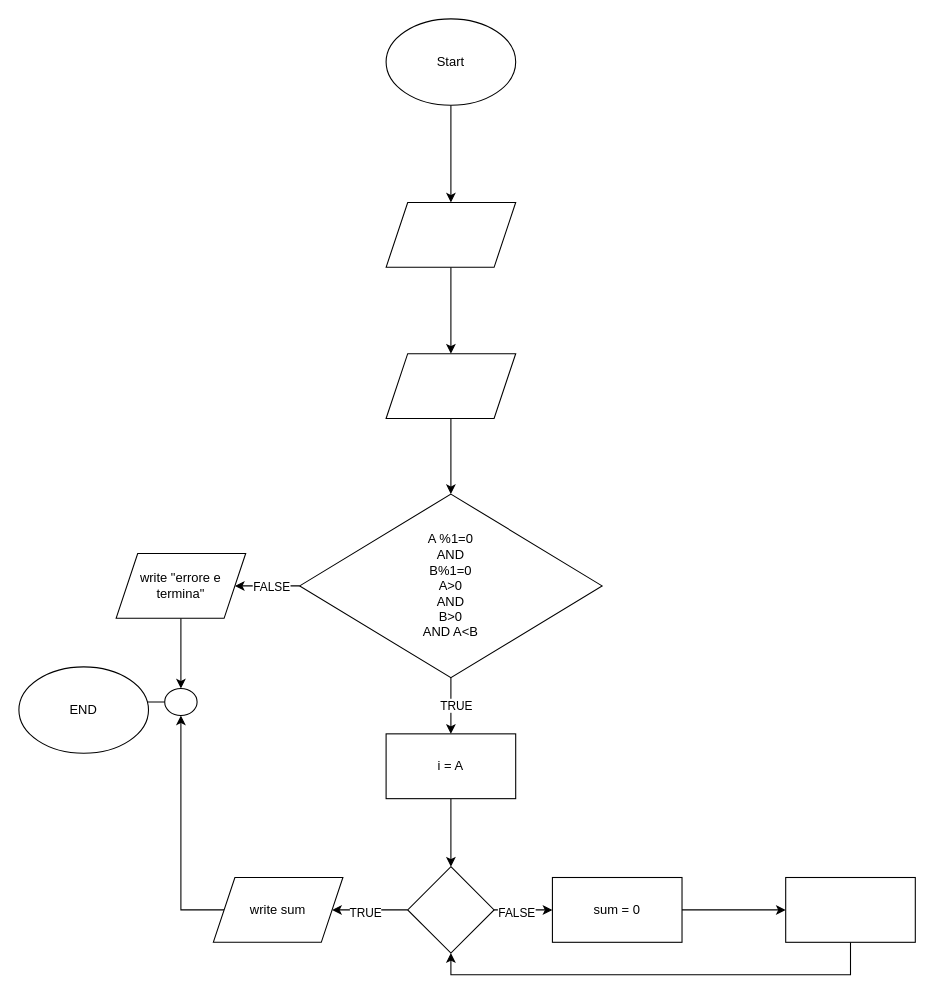
The diagram is 934 pixels wide and 1002 high, and some of its shapes have lost their labels. The centre of each missing label's shape, as x and y in pixels:
"I > B" belongs at (450,909).
"read A" belongs at (450,234).
"read B" belongs at (450,385).
"sum = sum +1" belongs at (850,909).
